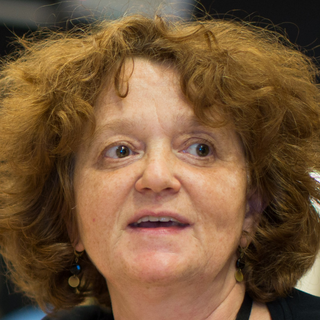eye: (100, 138, 143, 164), (179, 138, 223, 163)
